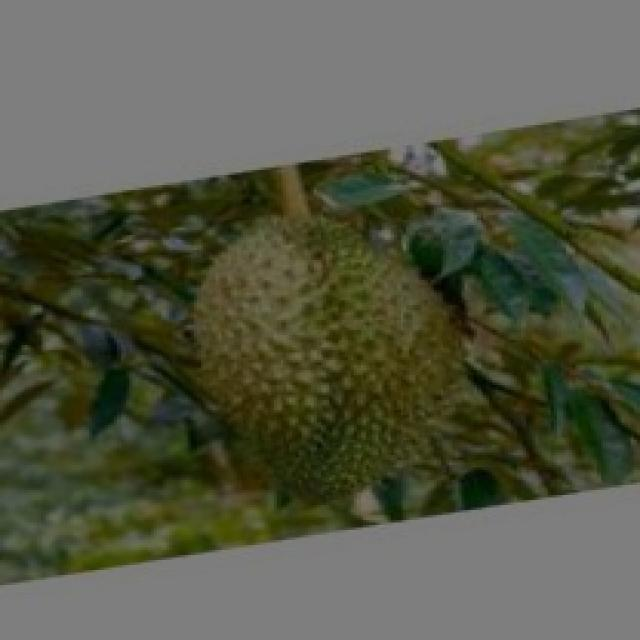fruit: (154, 182, 511, 540)
